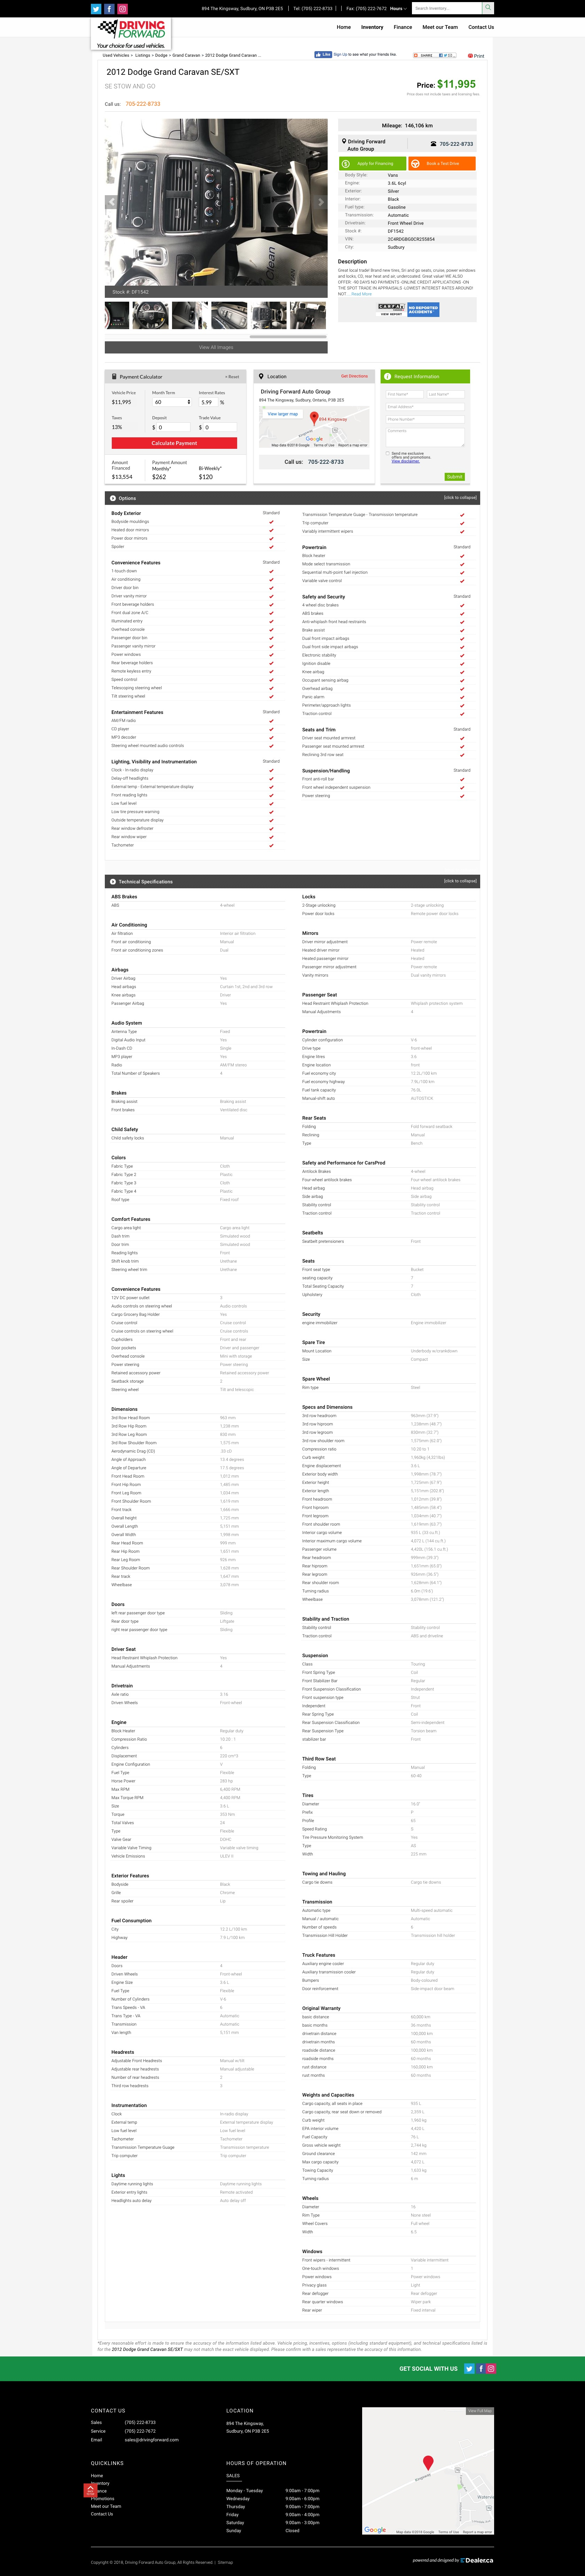car: (314, 195, 329, 209)
